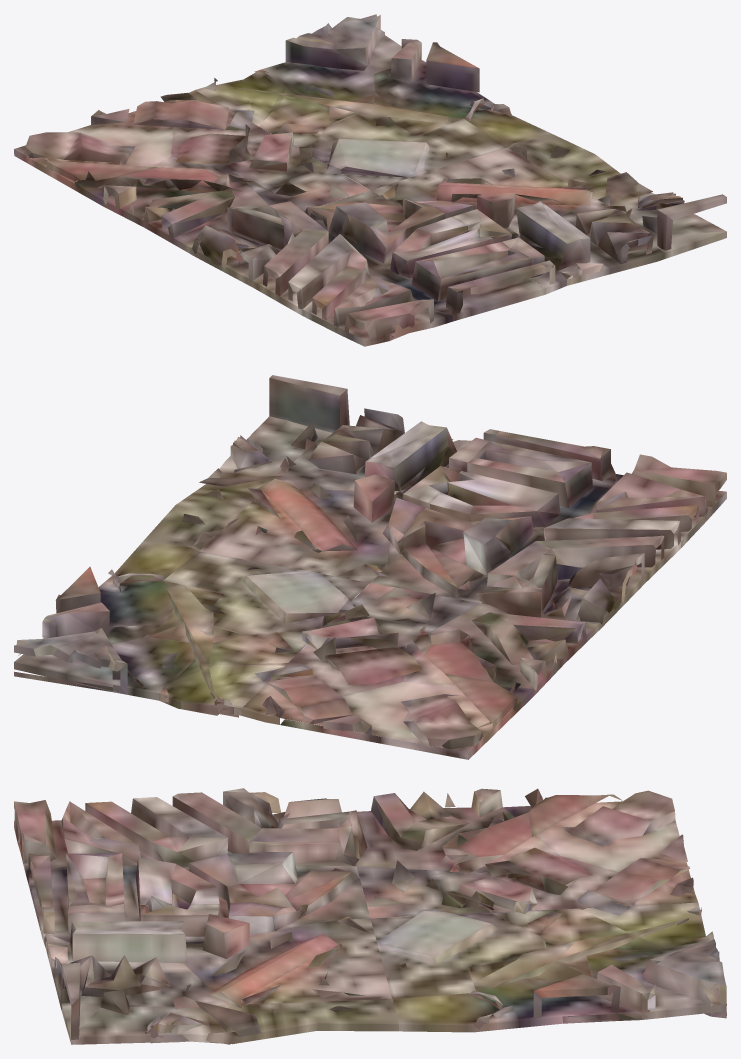
3 renders of one model, top to bottom at view 1: azimuth 30°, elevation 25°; view 2: azimuth 150°, elevation 25°; view 3: azimuth 270°, elevation 25°, orthographic. The views are drawn at different scales.
Parts seen in each view (by area): view 1: Mesh_0; view 2: Mesh_0; view 3: Mesh_0.
Part boxes in pixels (x1=…): Mesh_0: x1=14, y1=14, x2=726, y2=346; Mesh_0: x1=14, y1=375, x2=726, y2=759; Mesh_0: x1=14, y1=788, x2=726, y2=1044.
Bounding box in the file's own units: 533 × 54.88 × 659.
2 materials, 2 textured.
